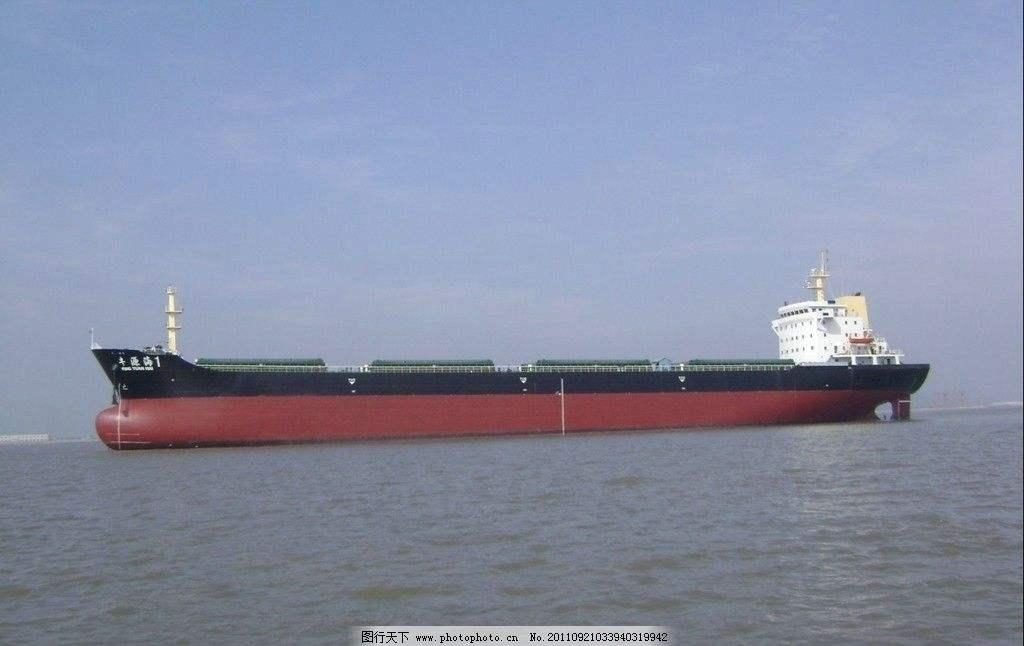Cargoship: (88, 240, 938, 451)
